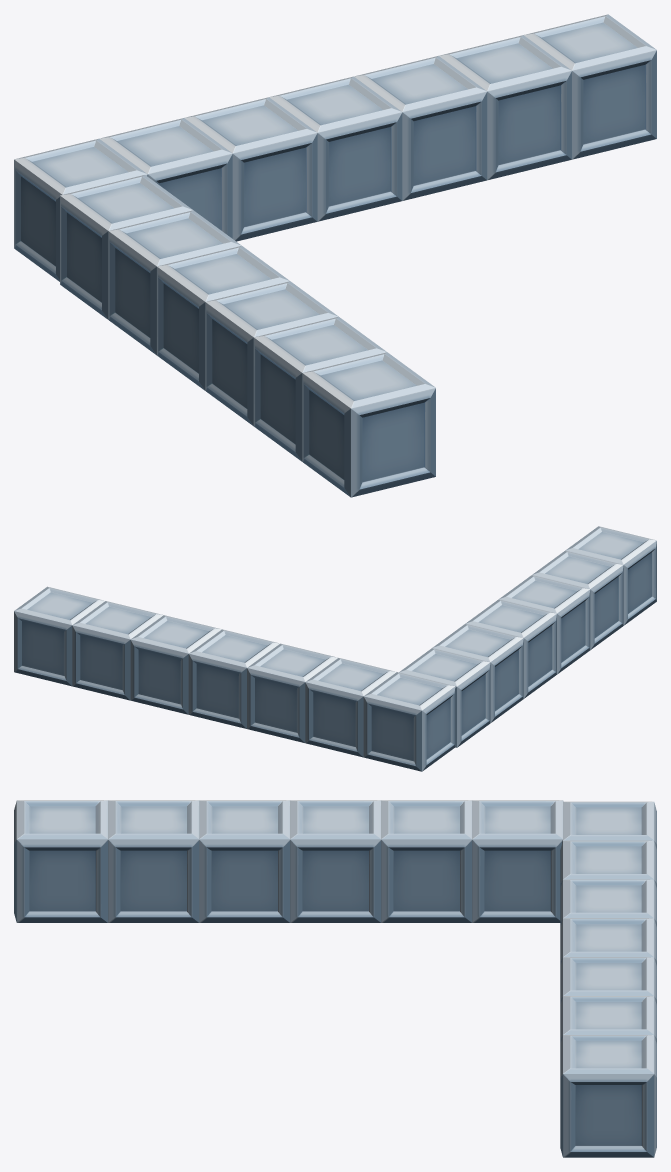
The model's file is PrototypeL7.fbx.
3 views of the same model, one above another, from view 1: azimuth 30°, elevation 25°; view 2: azimuth 150°, elevation 25°; view 3: azimuth 270°, elevation 25° (orthographic). The views are drawn at different scales.
Parts seen in each view (by area): view 1: polySurface1; view 2: polySurface1; view 3: polySurface1.
Part boxes in pixels (box(x1,y1,x2,y2)): polySurface1: box(14, 14, 656, 497); polySurface1: box(14, 526, 656, 771); polySurface1: box(14, 800, 656, 1157).
Bounding box in the file's own units: 6.17 × 0.9244 × 6.08.
Materials: 2 (1 with a texture image).
